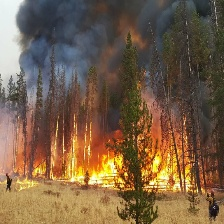fire: (12, 129, 194, 192)
smoke: (14, 1, 219, 98)
